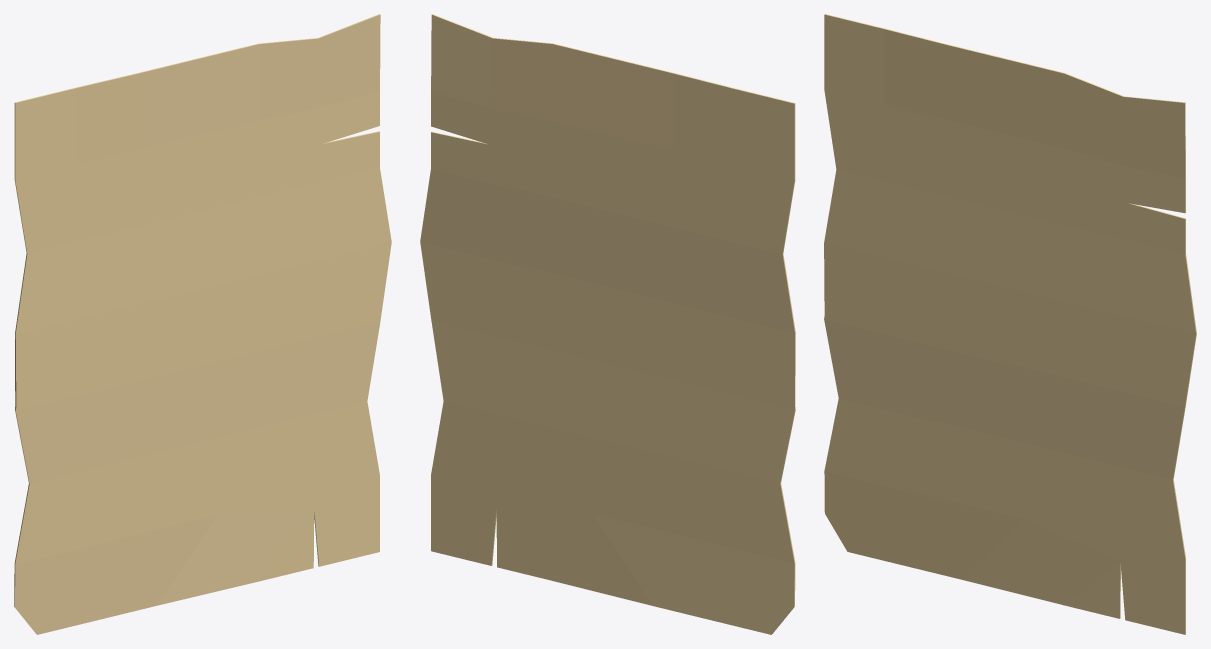
File: Note_A6.fbx
The picture shows the model from 3 angles, left to right: view 1: azimuth 30°, elevation 25°; view 2: azimuth 150°, elevation 25°; view 3: azimuth 330°, elevation 25°; orthographic projection.
Visible parts, largest first — view 1: Note A6; view 2: Note A6; view 3: Note A6.
Part boxes in pixels (x1,y1,x2,y2): Note A6: (14, 14, 391, 634); Note A6: (420, 14, 795, 634); Note A6: (824, 14, 1196, 634).
Size of the model in its own units: 10.83 by 14.8 by 0.1.
